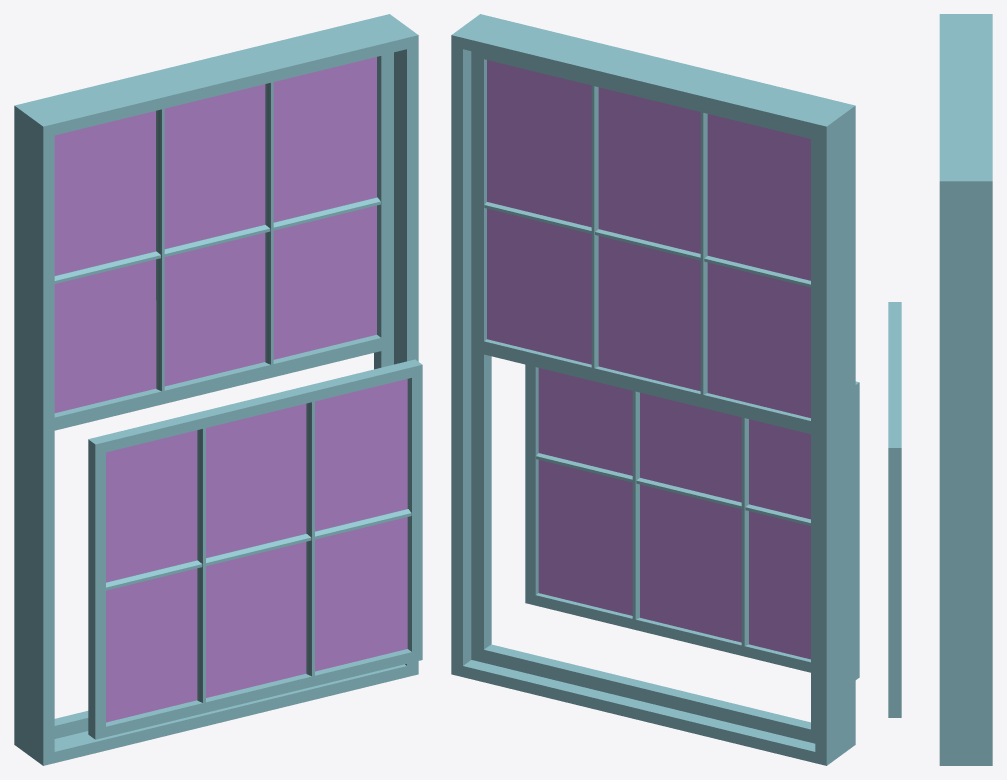
The model's file is Big_hangar_window_v1.FBX.
The picture shows the model from 3 angles, left to right: view 1: azimuth 30°, elevation 25°; view 2: azimuth 150°, elevation 25°; view 3: azimuth 270°, elevation 25°; orthographic projection. The views are drawn at different scales.
Parts seen in each view (by area): view 1: Glass_v1, Glass_v1_p1, Big_hangar_window_v1, Big_hangar_window_v1_p1; view 2: Big_hangar_window_v1, Glass_v1, Glass_v1_p1, Big_hangar_window_v1_p1; view 3: Big_hangar_window_v1, Big_hangar_window_v1_p1.
Part boxes in pixels (x1,y1,x2,y2): Glass_v1: (54, 57, 376, 412); Glass_v1_p1: (106, 379, 407, 722); Big_hangar_window_v1: (14, 14, 418, 765); Big_hangar_window_v1_p1: (88, 359, 422, 739); Big_hangar_window_v1: (451, 14, 855, 765); Glass_v1: (487, 60, 810, 417); Glass_v1_p1: (538, 368, 810, 659); Big_hangar_window_v1_p1: (525, 364, 859, 679); Big_hangar_window_v1: (939, 14, 992, 765); Big_hangar_window_v1_p1: (888, 302, 901, 717).
Size of the model in its own units: 2.21 by 3.6 by 0.5807.
